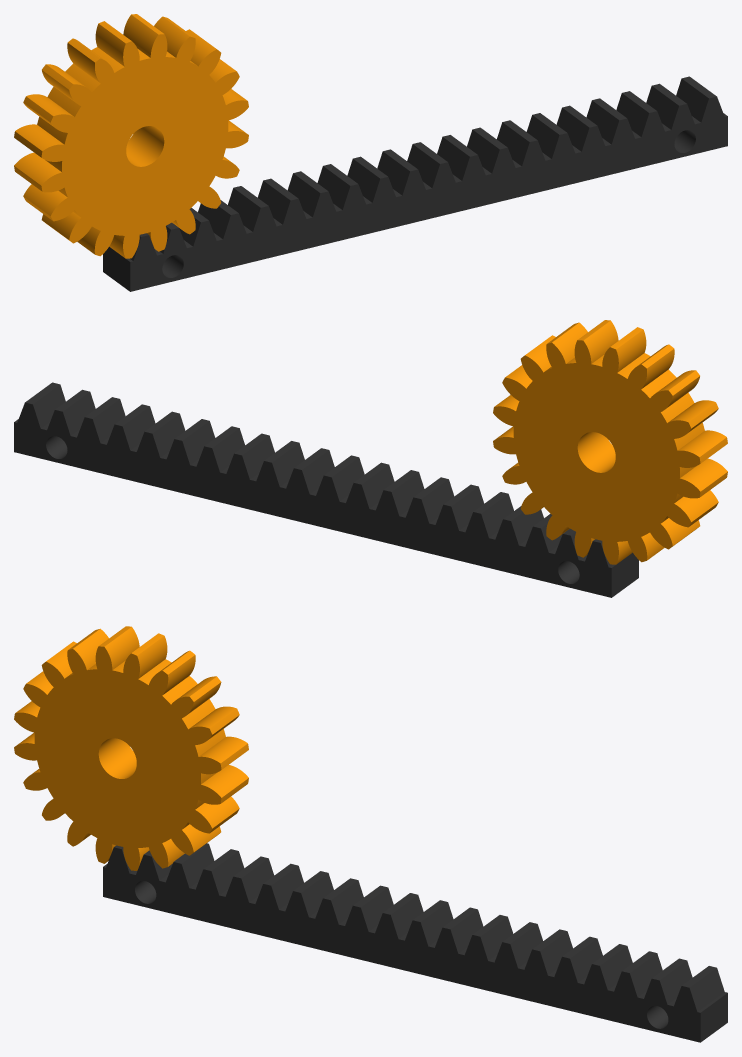
Rendered from assembly.glb.
3 views of the same model, one above another, from view 1: azimuth 30°, elevation 25°; view 2: azimuth 150°, elevation 25°; view 3: azimuth 330°, elevation 25° (orthographic).
Visible parts, largest first — view 1: rack/rack-m2-z20/rack, pinion/spur-gear-m2-z20/body; view 2: rack/rack-m2-z20/rack, pinion/spur-gear-m2-z20/body; view 3: rack/rack-m2-z20/rack, pinion/spur-gear-m2-z20/body.
Part boxes in pixels (x1,y1,x2,y2): rack/rack-m2-z20/rack: (103,76,727,291); pinion/spur-gear-m2-z20/body: (14,14,248,258); rack/rack-m2-z20/rack: (14,382,638,597); pinion/spur-gear-m2-z20/body: (493,320,727,564); rack/rack-m2-z20/rack: (103,843,727,1042); pinion/spur-gear-m2-z20/body: (14,626,248,870).
Size of the model in its own units: 0.1443 by 0.0503 by 0.01.
